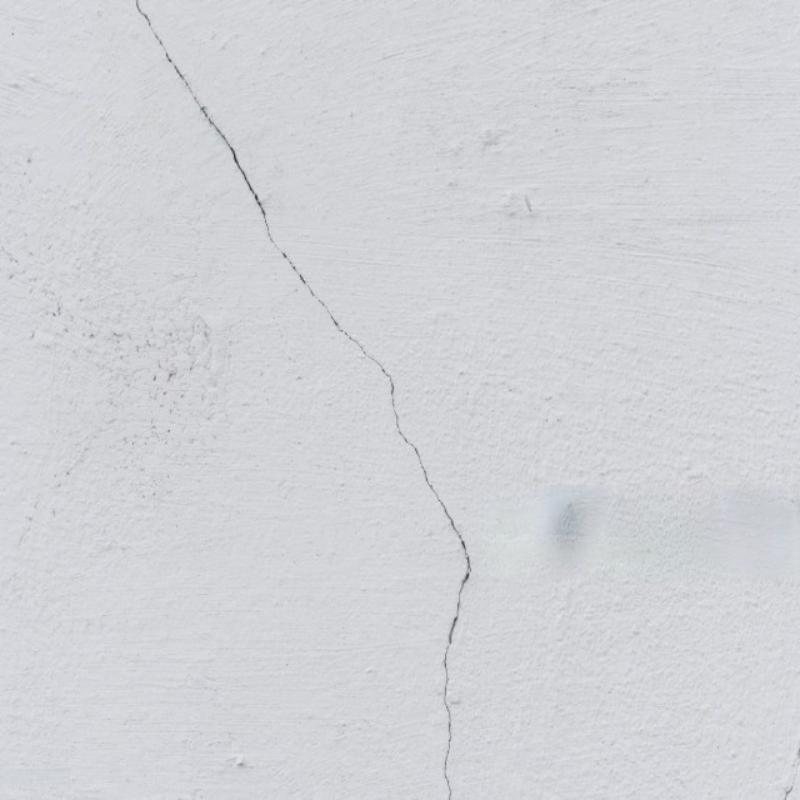pothole: (127, 0, 474, 798)
